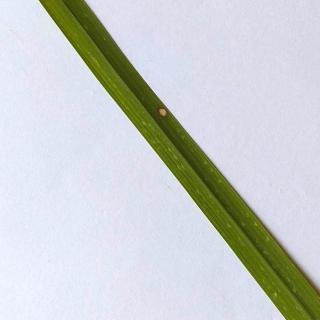Blast: (137, 88, 191, 143)
